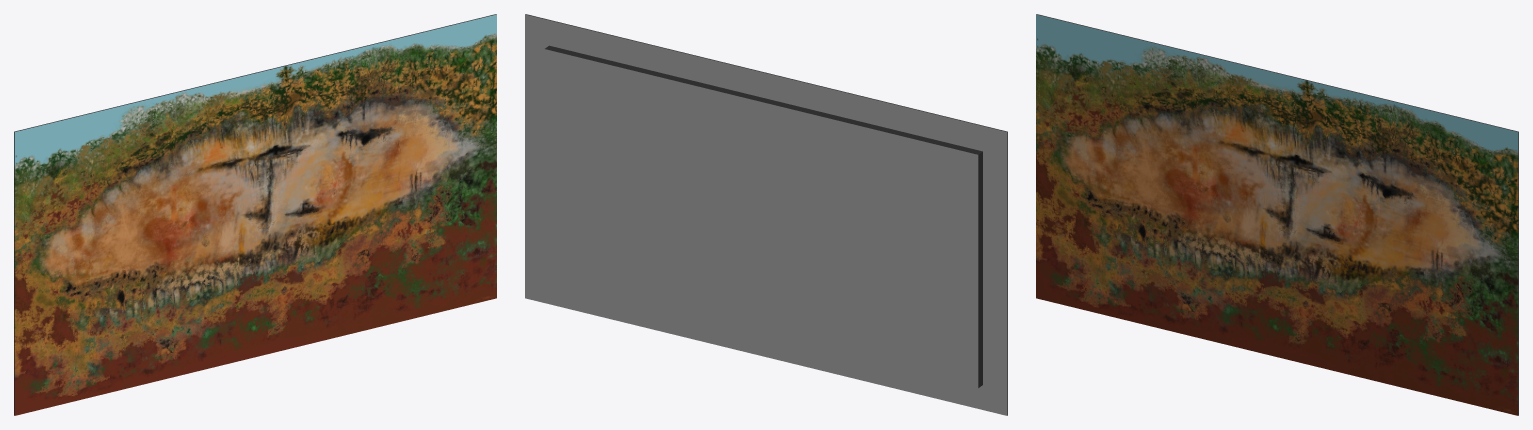
Rendered from hz074_grand_dibond.glb.
3 renders of one model, left to right at view 1: azimuth 30°, elevation 25°; view 2: azimuth 150°, elevation 25°; view 3: azimuth 330°, elevation 25°, orthographic.
Visible parts, largest first — view 1: hz074_grand_dibond; view 2: hz074_grand_dibond; view 3: hz074_grand_dibond.
Boxes of the visible parts, left/top/right/bottom form: hz074_grand_dibond: left=14, top=14, right=496, bottom=415; hz074_grand_dibond: left=525, top=14, right=1007, bottom=415; hz074_grand_dibond: left=1036, top=14, right=1518, bottom=415.
Bounding box in the file's own units: 1.2 × 0.675 × 0.023.
4 materials, 1 textured.
